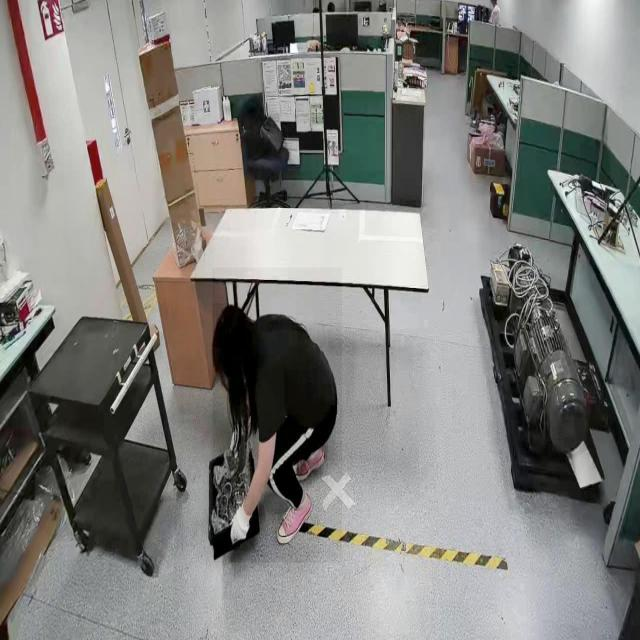hand_glove: (228, 495, 255, 552)
head_nohelmet: (212, 303, 246, 349)
person: (212, 267, 342, 564)
shoes: (275, 491, 315, 546)
